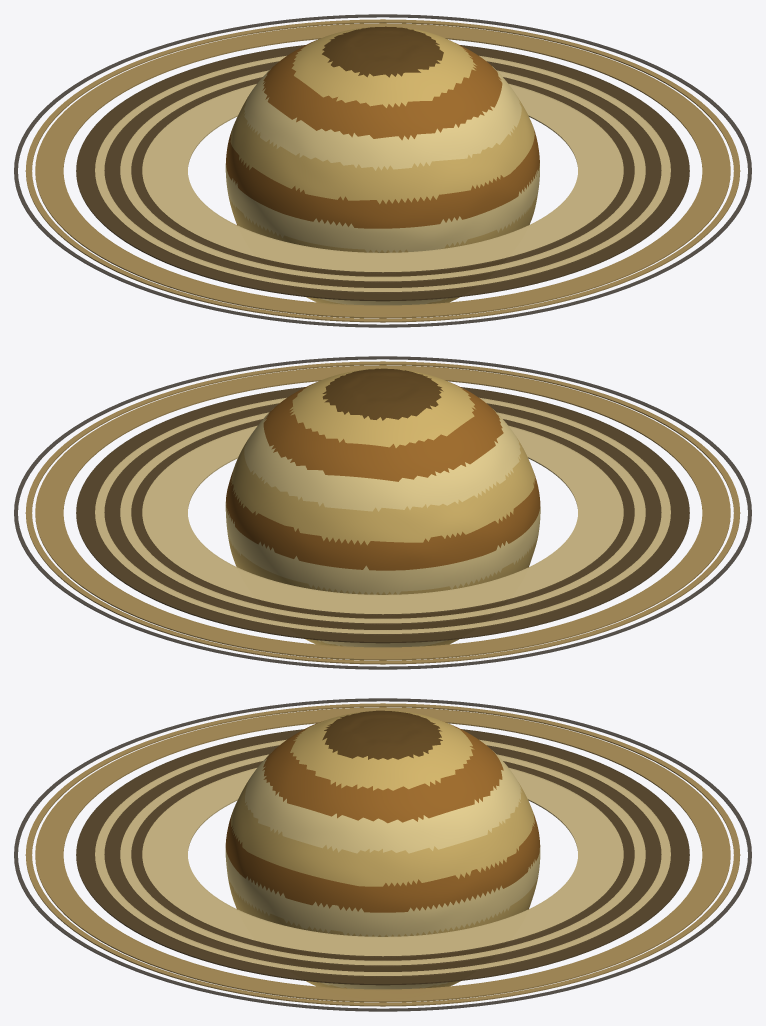
Rendered from CELESTIAL_05_Saturn.obj.
3 views of the same model, one above another, from view 1: azimuth 30°, elevation 25°; view 2: azimuth 150°, elevation 25°; view 3: azimuth 270°, elevation 25° (orthographic).
Parts seen in each view (by area): view 1: CELESTIAL_05_Saturn_Rings, CELESTIAL_05_Saturn_Saturn; view 2: CELESTIAL_05_Saturn_Rings, CELESTIAL_05_Saturn_Saturn; view 3: CELESTIAL_05_Saturn_Rings, CELESTIAL_05_Saturn_Saturn.
Part boxes in pixels (x1,y1,x2,y2): CELESTIAL_05_Saturn_Rings: (14,14,751,327); CELESTIAL_05_Saturn_Saturn: (225,26,539,305); CELESTIAL_05_Saturn_Rings: (14,356,751,669); CELESTIAL_05_Saturn_Saturn: (225,368,540,647); CELESTIAL_05_Saturn_Rings: (14,698,751,1011); CELESTIAL_05_Saturn_Saturn: (225,710,540,989).
Size of the model in its own units: 4.69 by 1.8 by 4.69.
